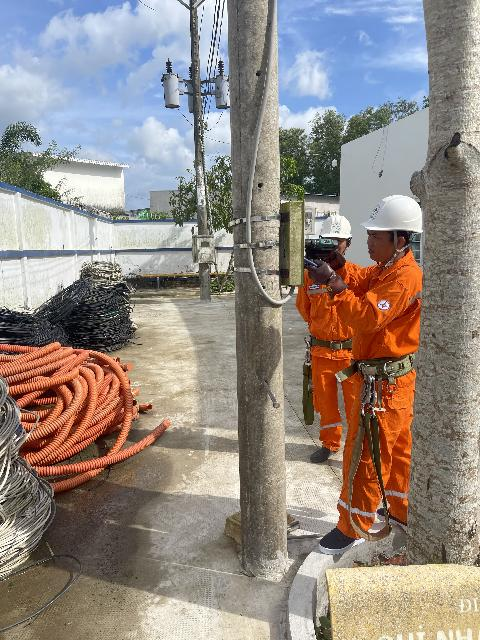gloves: (300, 252, 347, 293), (298, 241, 357, 262)
harness: (342, 344, 424, 386), (298, 328, 362, 354)
helmet: (361, 196, 428, 238), (317, 210, 359, 246)
shoes: (313, 509, 368, 557), (372, 501, 412, 533), (311, 435, 340, 467)
